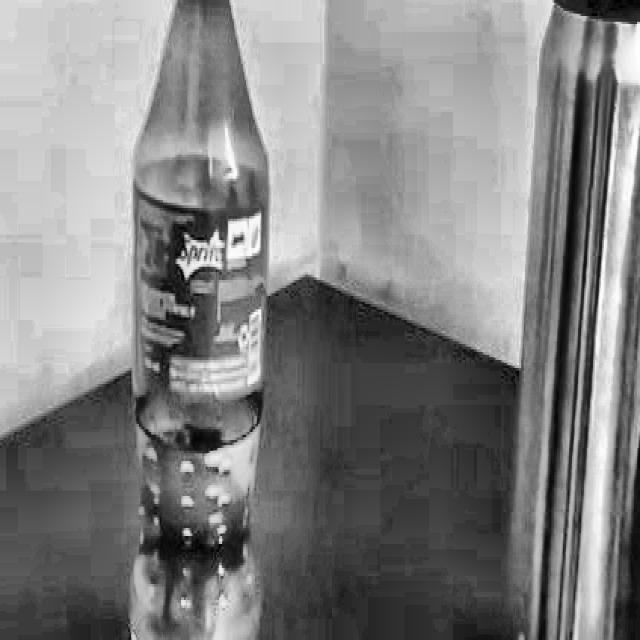bottle: (128, 0, 273, 640), (506, 0, 640, 640)
